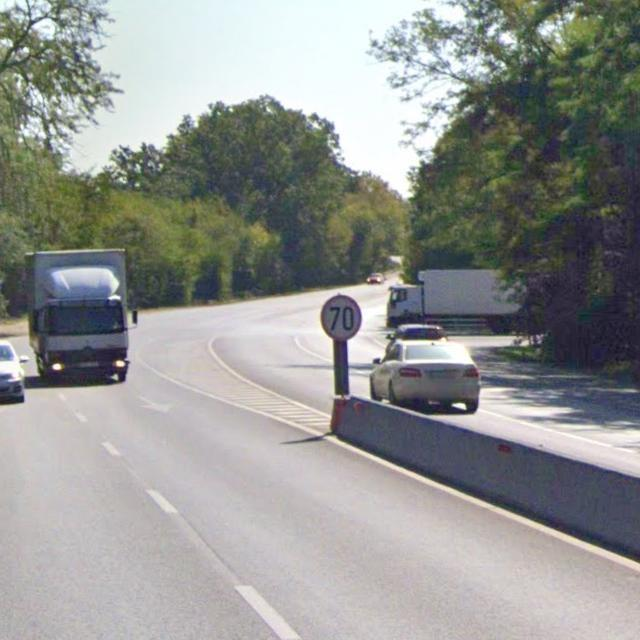forb_speed_over_70: (321, 295, 363, 341)
